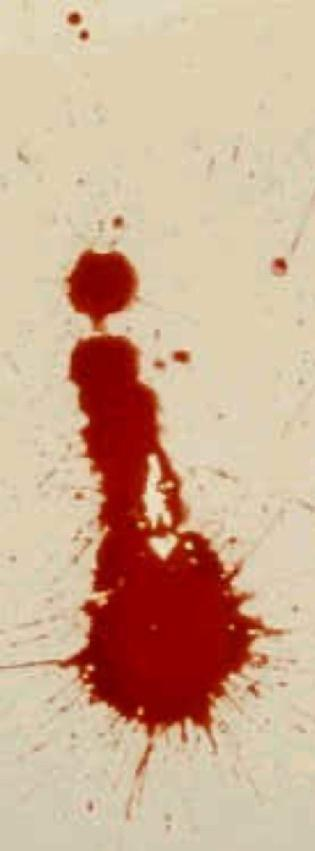Fire: (49, 335, 283, 742), (66, 247, 140, 332)
